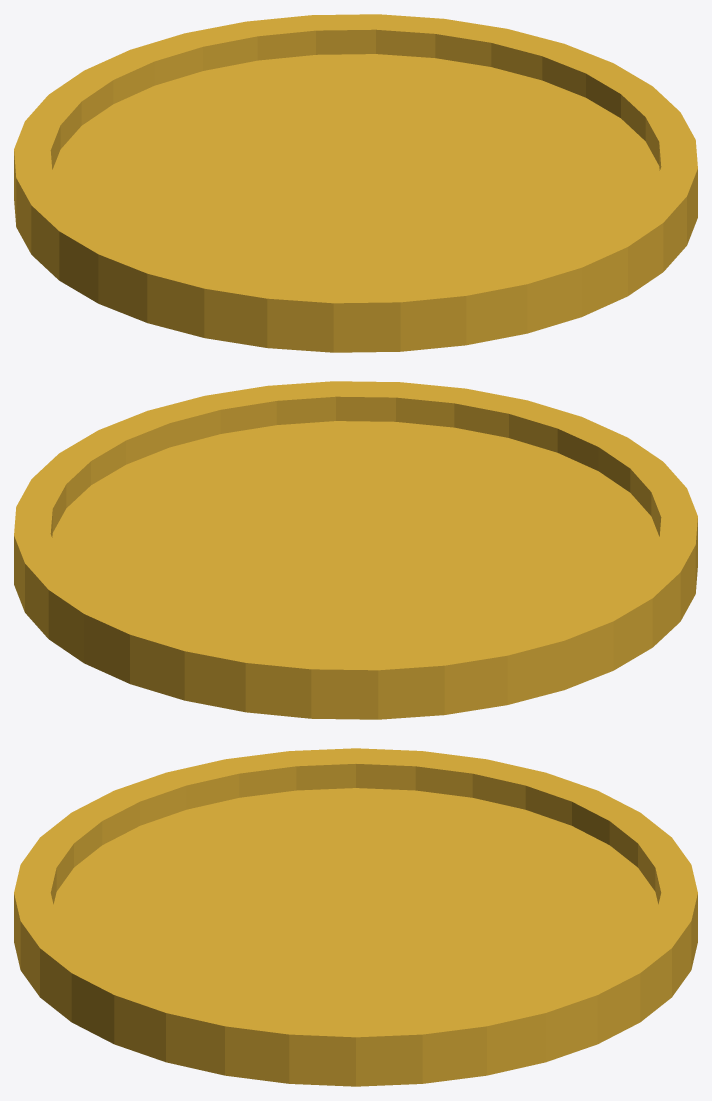
File: coin_mesh.gltf
3 renders of one model, top to bottom at view 1: azimuth 30°, elevation 25°; view 2: azimuth 150°, elevation 25°; view 3: azimuth 270°, elevation 25°, orthographic.
Visible parts, largest first — view 1: Cylinder; view 2: Cylinder; view 3: Cylinder.
Boxes of the visible parts, x1,y1,x2,y2 form: Cylinder: (14, 14, 697, 352); Cylinder: (14, 381, 697, 719); Cylinder: (14, 748, 697, 1086).
Bounding box in the file's own units: 2 × 0.1592 × 2.
